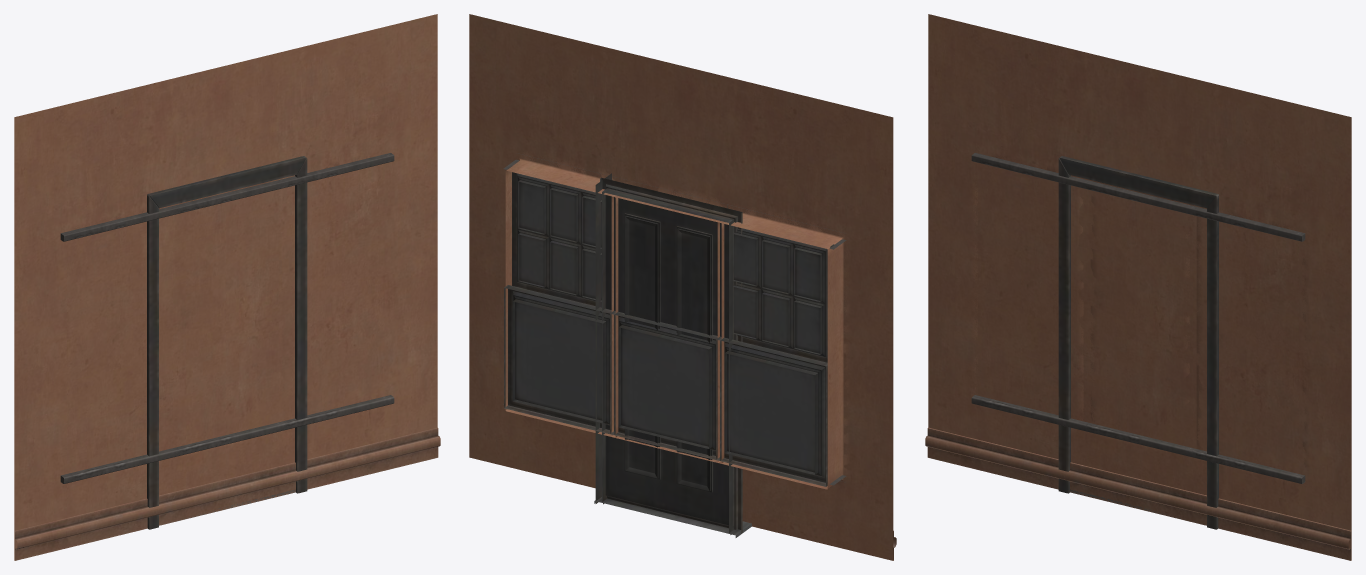
Rendered from urban-kit.glb.
3 views of the same model, side by side, from view 1: azimuth 30°, elevation 25°; view 2: azimuth 150°, elevation 25°; view 3: azimuth 330°, elevation 25° (orthographic).
Parts seen in each view (by area): view 1: wall_window_centered_small_03, wall_standard_standard_01, cornice_standard_standard_01, wall_window_centered_double_03, door_centered_small_02, wall_door_centered_small_02, window_centered_double_03, window_centered_small_03; view 2: wall_window_centered_small_03, window_centered_double_03, door_centered_small_02, wall_window_centered_double_03, window_centered_small_03, wall_door_centered_small_02, wall_standard_standard_01; view 3: wall_window_centered_small_03, wall_standard_standard_01, wall_window_centered_double_03, cornice_standard_standard_01, wall_door_centered_small_02, door_centered_small_02, window_centered_double_03, window_centered_small_03.
Part boxes in pixels (<box>): wall_window_centered_small_03: <box>14,14,437,560</box>; wall_standard_standard_01: <box>155,50,296,493</box>; cornice_standard_standard_01: <box>14,427,440,560</box>; wall_window_centered_double_03: <box>49,124,419,495</box>; door_centered_small_02: <box>147,156,307,529</box>; wall_door_centered_small_02: <box>129,49,313,464</box>; window_centered_double_03: <box>60,153,394,483</box>; window_centered_small_03: <box>167,181,288,457</box>; wall_window_centered_small_03: <box>469,14,893,560</box>; window_centered_double_03: <box>503,153,846,486</box>; door_centered_small_02: <box>594,173,751,537</box>; wall_window_centered_double_03: <box>487,123,857,494</box>; window_centered_small_03: <box>609,179,727,460</box>; wall_door_centered_small_02: <box>593,49,778,459</box>; wall_standard_standard_01: <box>593,49,751,522</box>; wall_window_centered_small_03: <box>928,14,1351,560</box>; wall_standard_standard_01: <box>1069,50,1227,495</box>; wall_window_centered_double_03: <box>963,133,1333,514</box>; cornice_standard_standard_01: <box>925,427,1351,560</box>; wall_door_centered_small_02: <box>1043,45,1228,500</box>; door_centered_small_02: <box>1058,156,1218,529</box>; window_centered_double_03: <box>971,153,1305,483</box>; window_centered_small_03: <box>1077,178,1198,457</box>.
Size of the model in its own units: 3 by 3 by 0.2549.
Materials: 4 (4 with a texture image).
